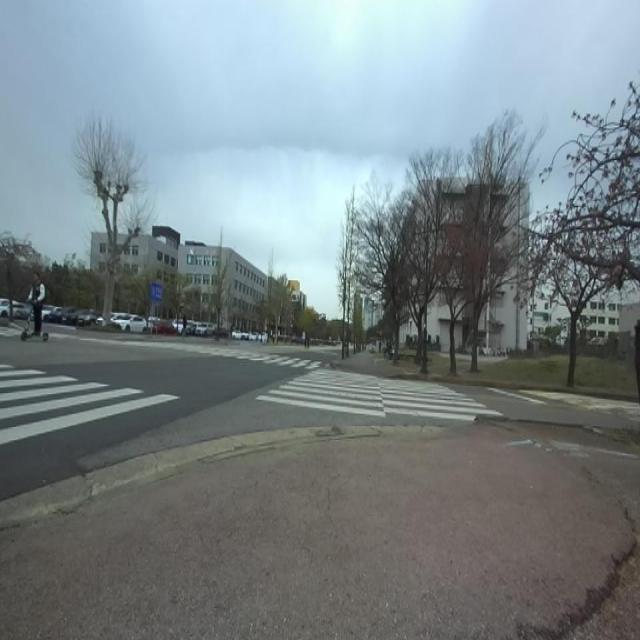sidewalk: (0, 422, 640, 639), (0, 424, 640, 639), (568, 536, 640, 640)
